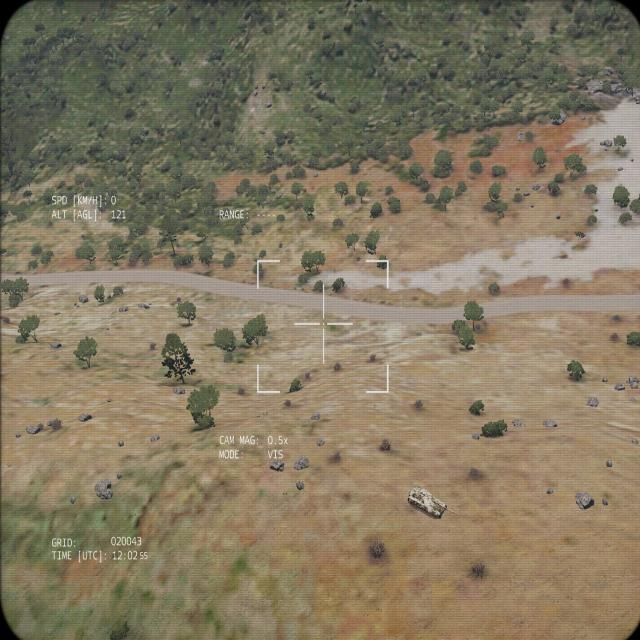tank: (406, 483, 459, 522)
